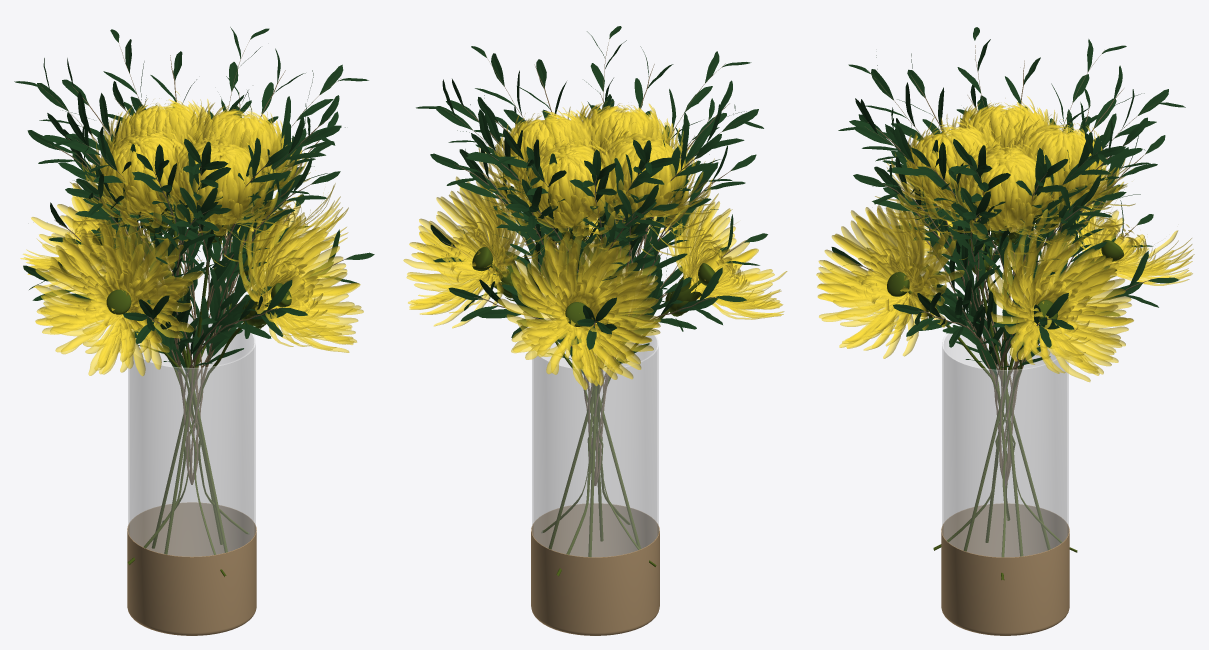
File: bouquet_1736625843288.glb
3 renders of one model, left to right at view 1: azimuth 30°, elevation 25°; view 2: azimuth 150°, elevation 25°; view 3: azimuth 270°, elevation 25°, orthographic.
Size of the model in its own units: 1.94 by 3 by 1.94.
